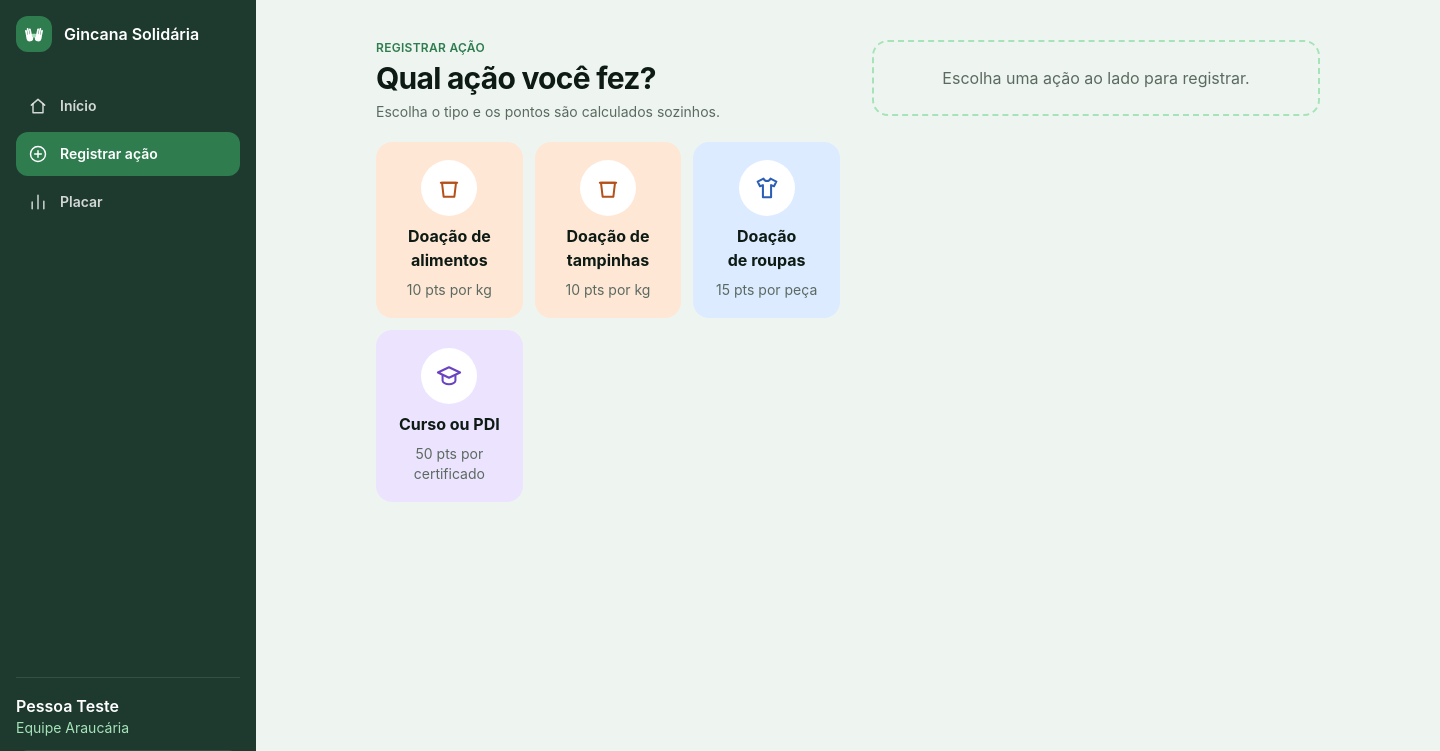
Test case: Escolher ação (US06) › leva a escolha ao formulário da ação
Click the link "Doação de roupas 15 pts por peça" at (767, 230), box 693,142 -> 840,318
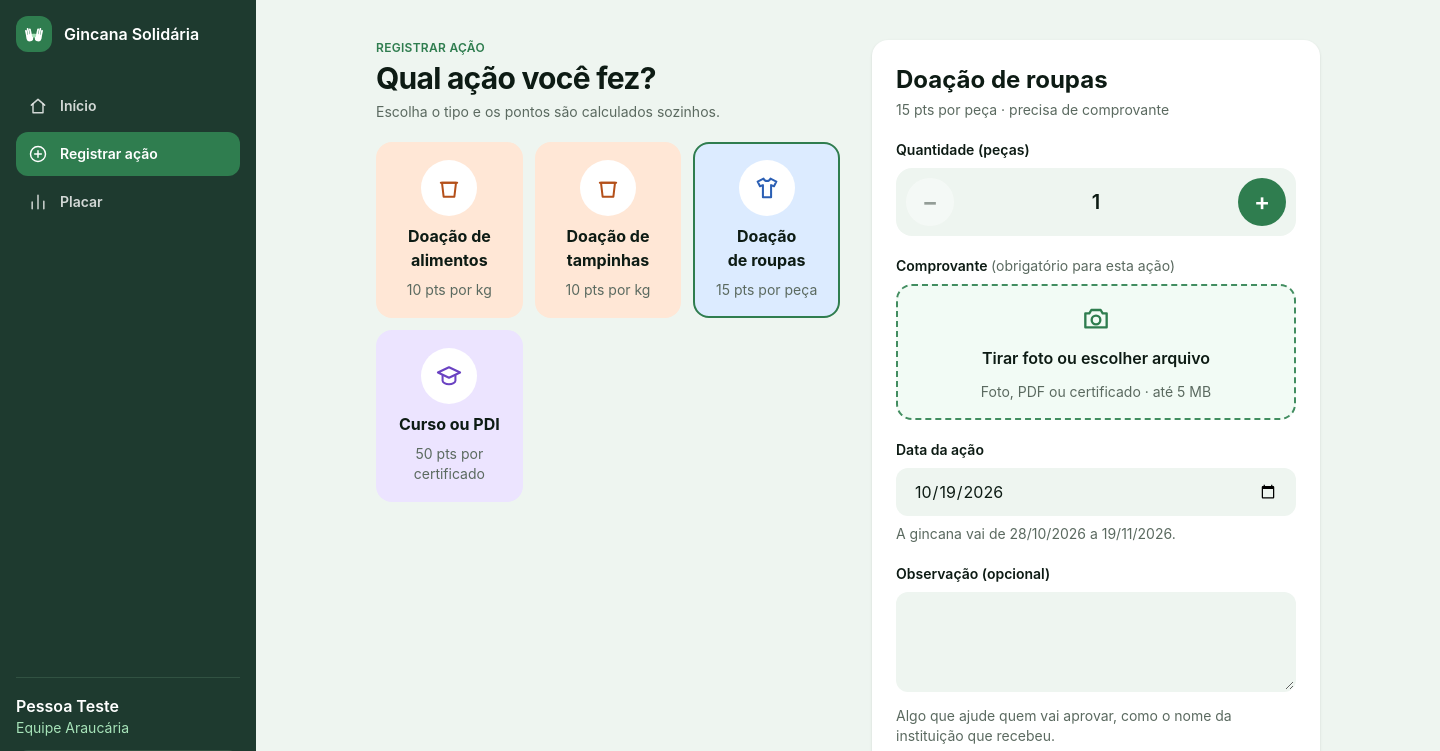
Expected: the heading "Doação de roupas" is shown, 896,65 -> 1108,94
Expected: the text "15 pts por peça · precisa de comprovante" is shown, 896,100 -> 1169,120
Expected: the field labelled "Quantidade (peças)" holds "1", 962,178 -> 1230,226
